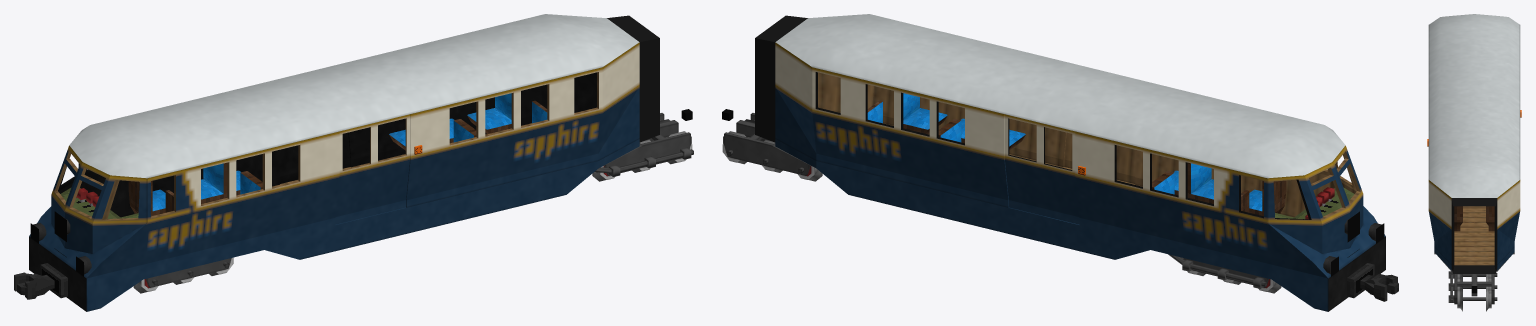
Rendered from sapphire_express_1.obj.
3 renders of one model, left to right at view 1: azimuth 30°, elevation 25°; view 2: azimuth 150°, elevation 25°; view 3: azimuth 270°, elevation 25°, orthographic. The views are drawn at different scales.
Parts seen in each view (by area): view 1: FRAME_ext_roof, FRAME_ext_body.002, FRAME_ext_body.001, FRAME_int_body.001, FRAME_int_body.002, connector, DOOR_6_CG_doorleft_NOTOUCH, DOOR_5_CG_doorleft_NOTOUCH, BOGEY_REAR_1, bench.007, bench, BOGEY_FRONT_1 (+4 smaller); view 2: FRAME_ext_roof, FRAME_ext_body.002, FRAME_ext_body.001, FRAME_int_body.001, FRAME_int_body.002, connector, DOOR_4_CG_doorright_NOTOUCH, DOOR_3_CG_doorright_NOTOUCH, BOGEY_REAR_1, bench.006, bench.001, COUPLED_FRONT_1_HIDE (+4 smaller); view 3: FRAME_ext_roof, FRAME_ext_body.001, FRAME_int_floor, connector, BOGEY_REAR_1, BOGEY_REAR_WHEEL_1, bench, bench.001, BOGEY_REAR_WHEEL_2, BOGEY_REAR_WHEEL_3.
Part boxes in pixels (x1=…): FRAME_ext_roof: x1=69, y1=14, x2=639, y2=178; FRAME_ext_body.002: x1=29, y1=131, x2=370, y2=311; FRAME_ext_body.001: x1=371, y1=42, x2=639, y2=242; FRAME_int_body.001: x1=348, y1=72, x2=598, y2=167; FRAME_int_body.002: x1=54, y1=145, x2=300, y2=220; connector: x1=607, y1=15, x2=659, y2=142; DOOR_6_CG_doorleft_NOTOUCH: x1=370, y1=114, x2=410, y2=215; DOOR_5_CG_doorleft_NOTOUCH: x1=335, y1=123, x2=374, y2=224; BOGEY_REAR_1: x1=604, y1=113, x2=691, y2=176; bench.007: x1=201, y1=162, x2=240, y2=203; bench: x1=467, y1=93, x2=511, y2=134; BOGEY_FRONT_1: x1=146, y1=258, x2=231, y2=287; FRAME_ext_roof: x1=775, y1=14, x2=1345, y2=178; FRAME_ext_body.002: x1=1044, y1=131, x2=1385, y2=311; FRAME_ext_body.001: x1=775, y1=42, x2=1043, y2=242; FRAME_int_body.001: x1=815, y1=72, x2=1066, y2=167; FRAME_int_body.002: x1=1114, y1=145, x2=1360, y2=219; connector: x1=755, y1=15, x2=807, y2=142; DOOR_4_CG_doorright_NOTOUCH: x1=1004, y1=114, x2=1044, y2=215; DOOR_3_CG_doorright_NOTOUCH: x1=1040, y1=123, x2=1079, y2=224; BOGEY_REAR_1: x1=724, y1=113, x2=810, y2=175; bench.006: x1=1174, y1=162, x2=1213, y2=203; bench.001: x1=903, y1=93, x2=947, y2=134; COUPLED_FRONT_1_HIDE: x1=1360, y1=273, x2=1398, y2=301; FRAME_ext_roof: x1=1428, y1=14, x2=1520, y2=197; FRAME_ext_body.001: x1=1428, y1=180, x2=1520, y2=270; FRAME_int_floor: x1=1454, y1=206, x2=1494, y2=265; connector: x1=1451, y1=198, x2=1497, y2=273; BOGEY_REAR_1: x1=1448, y1=271, x2=1494, y2=304; BOGEY_REAR_WHEEL_1: x1=1457, y1=287, x2=1497, y2=311; bench: x1=1486, y1=206, x2=1494, y2=231; bench.001: x1=1454, y1=206, x2=1462, y2=231; BOGEY_REAR_WHEEL_2: x1=1457, y1=275, x2=1497, y2=290; BOGEY_REAR_WHEEL_3: x1=1457, y1=273, x2=1497, y2=277.
Size of the model in its own units: 11.81 by 2.56 by 2.06.
9 materials, 9 textured.
